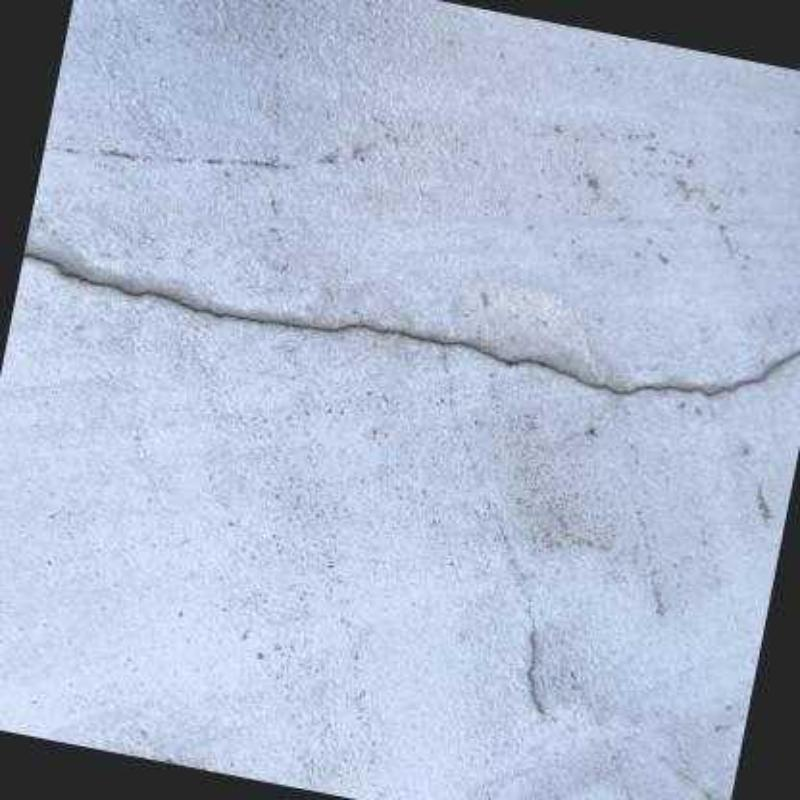pothole: (22, 254, 800, 396)
